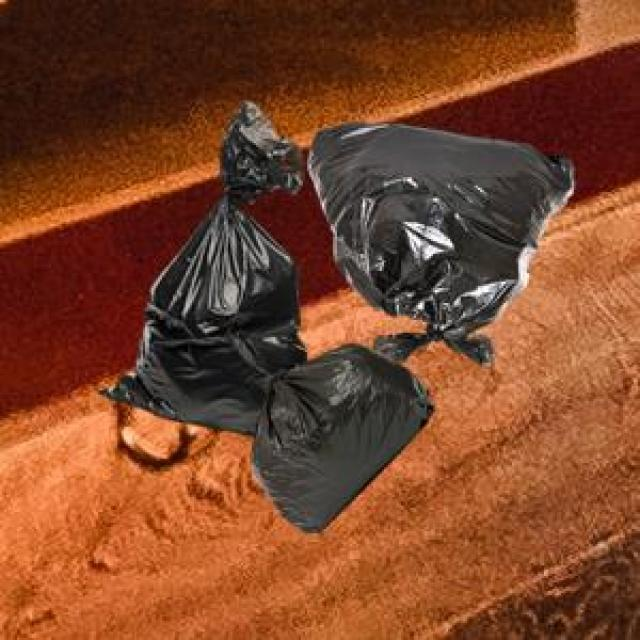waste: (105, 102, 431, 529), (309, 124, 574, 363)
